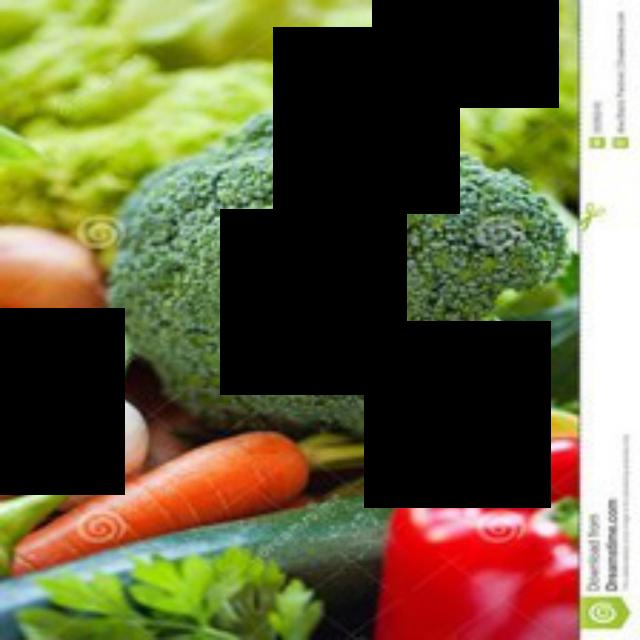broccoli: (96, 108, 580, 446)
